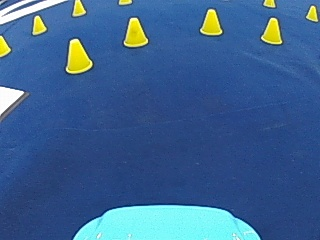cone: (64, 37, 92, 73), (122, 15, 148, 46), (198, 7, 222, 35), (260, 16, 283, 44), (31, 14, 46, 34), (0, 34, 11, 56), (71, 0, 86, 16), (305, 4, 318, 21), (263, 0, 275, 8)
